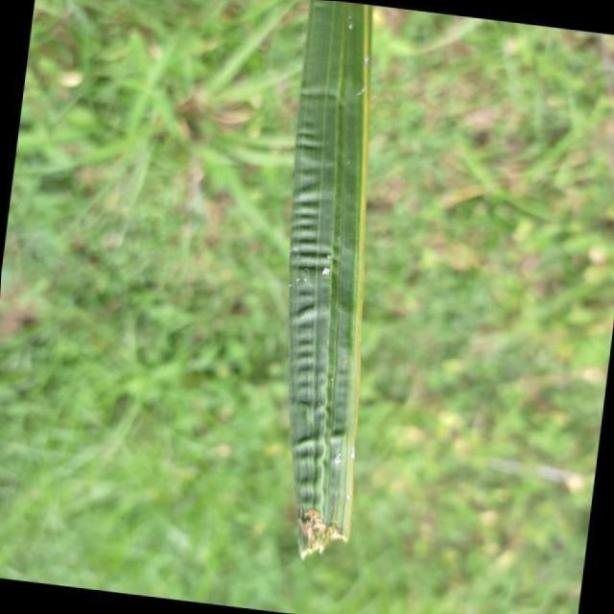Boron: (274, 0, 377, 557)
